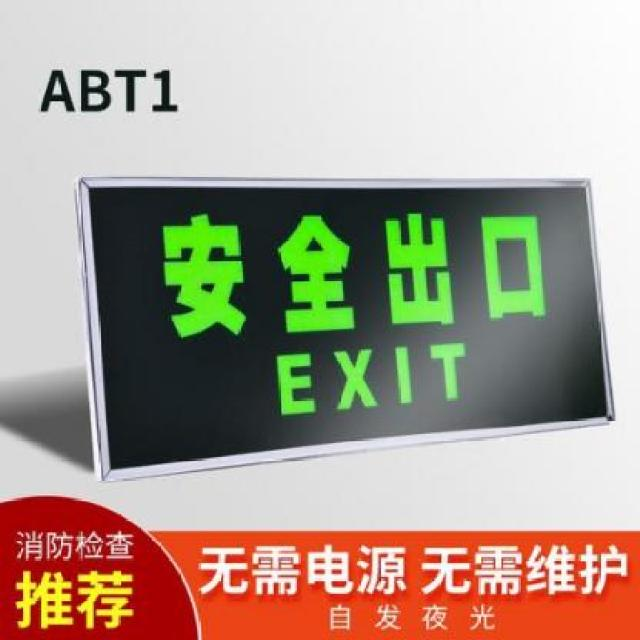exit_sign: (68, 163, 622, 461)
